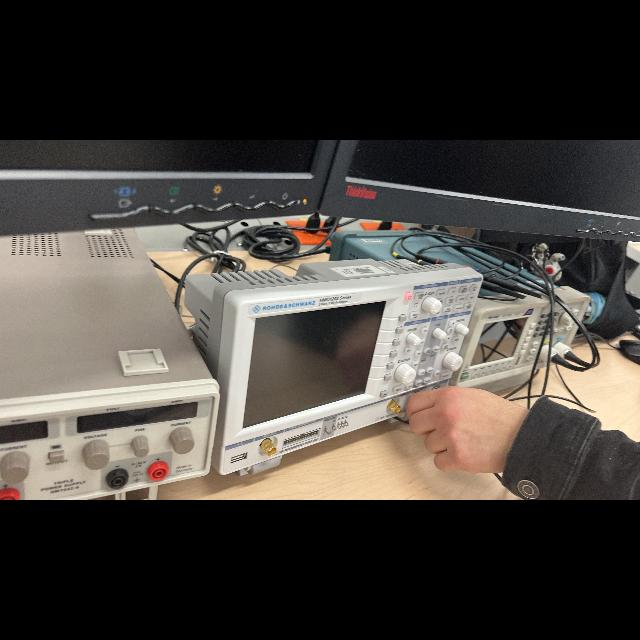Digital-Oscilloscope: (185, 259, 481, 474)
